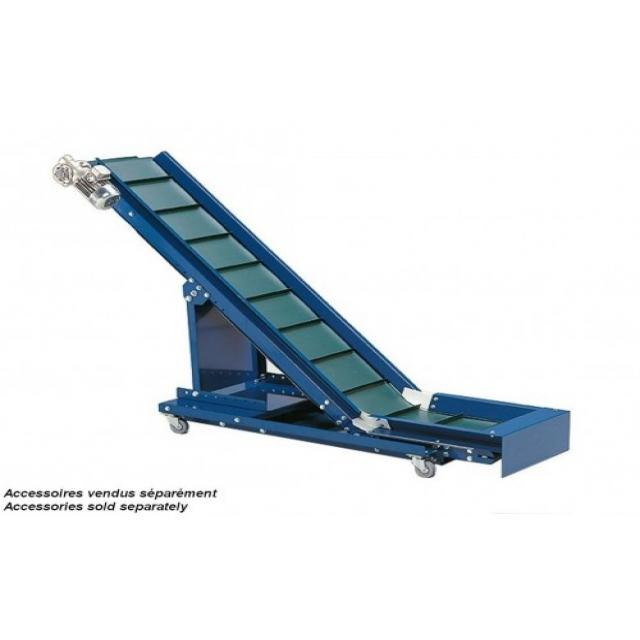Convoyeur: (49, 144, 580, 478)
